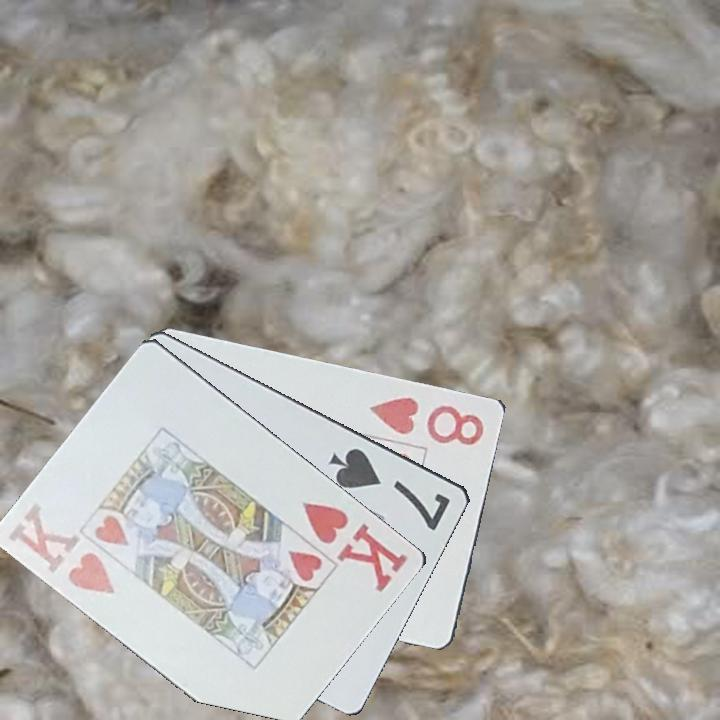7s: (325, 444, 454, 534)
8h: (366, 393, 488, 448)
Kh: (5, 499, 120, 599), (298, 498, 412, 596)
